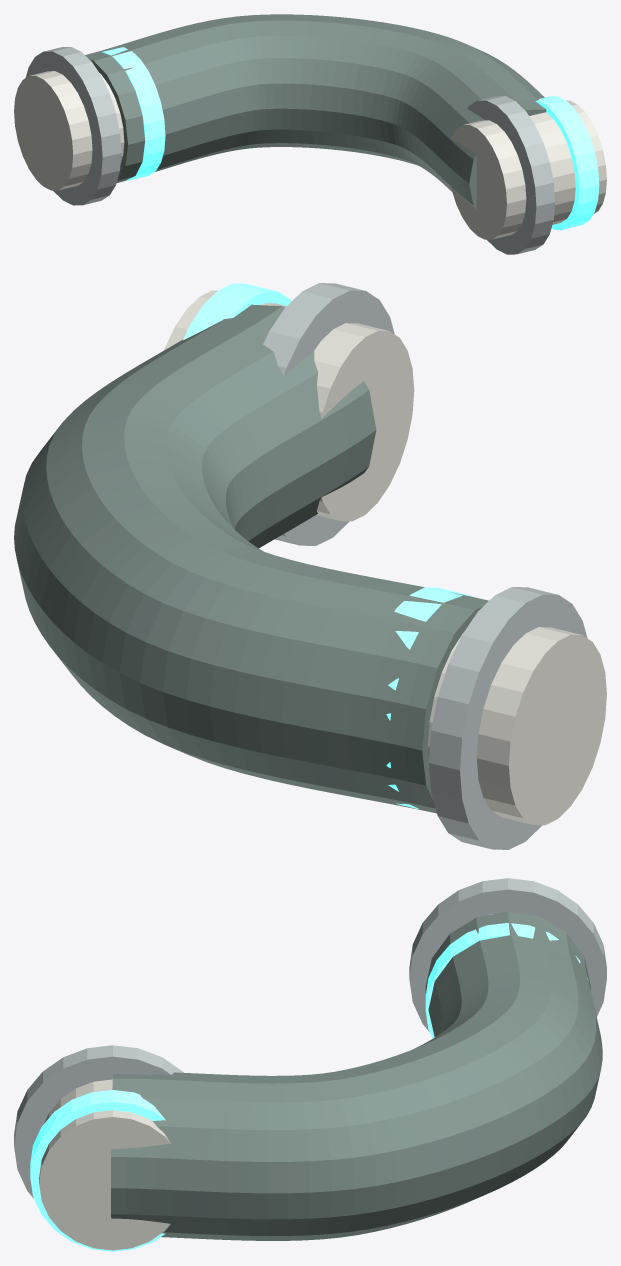
Rendered from s7-i04-elbow.glb.
3 views of the same model, one above another, from view 1: azimuth 30°, elevation 25°; view 2: azimuth 150°, elevation 25°; view 3: azimuth 270°, elevation 25° (orthographic). The views are drawn at different scales.
Visible parts, largest first — view 1: 000_rigid_splitter_trunk, 004_output_sealing_socket, 001_input_sealing_socket, 003_input_locking_collar, 006_output_locking_collar, 005_output_cyan_snap_seal, 002_input_cyan_snap_seal; view 2: 000_rigid_splitter_trunk, 001_input_sealing_socket, 003_input_locking_collar, 004_output_sealing_socket, 006_output_locking_collar, 005_output_cyan_snap_seal, 002_input_cyan_snap_seal; view 3: 000_rigid_splitter_trunk, 004_output_sealing_socket, 003_input_locking_collar, 006_output_locking_collar, 005_output_cyan_snap_seal, 002_input_cyan_snap_seal.
Part boxes in pixels (x1,y1,x2,y2): 000_rigid_splitter_trunk: (85, 14, 546, 209); 004_output_sealing_socket: (451, 100, 606, 239); 001_input_sealing_socket: (14, 71, 124, 190); 003_input_locking_collar: (25, 47, 121, 205); 006_output_locking_collar: (467, 96, 555, 254); 005_output_cyan_snap_seal: (535, 96, 599, 229); 002_input_cyan_snap_seal: (102, 47, 165, 180); 000_rigid_splitter_trunk: (14, 304, 488, 813); 001_input_sealing_socket: (428, 627, 606, 825); 003_input_locking_collar: (429, 587, 587, 849); 004_output_sealing_socket: (164, 290, 414, 521); 006_output_locking_collar: (263, 283, 394, 545); 005_output_cyan_snap_seal: (183, 283, 291, 340); 002_input_cyan_snap_seal: (386, 587, 472, 808); 000_rigid_splitter_trunk: (111, 911, 602, 1240); 004_output_sealing_socket: (39, 1079, 170, 1250); 003_input_locking_collar: (409, 878, 606, 1031); 006_output_locking_collar: (14, 1045, 183, 1198); 005_output_cyan_snap_seal: (30, 1090, 165, 1251); 002_input_cyan_snap_seal: (425, 923, 588, 1038).
Bounding box in the file's own units: 0.3126 × 0.11 × 0.33.
